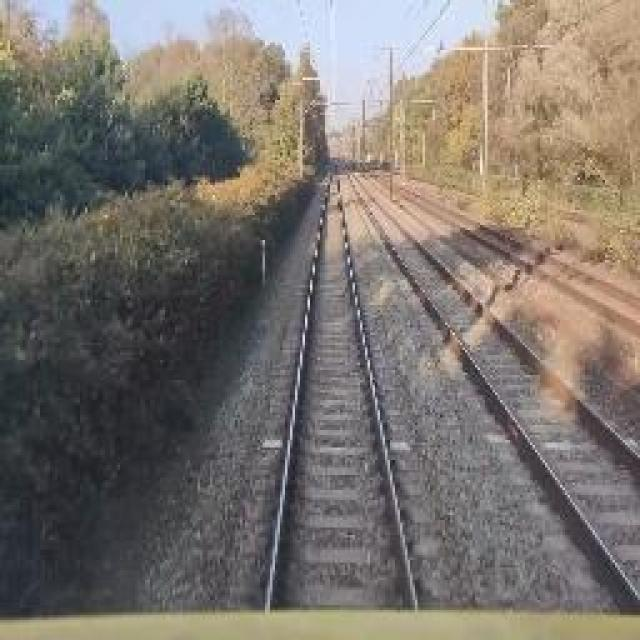rail: (333, 154, 640, 620), (234, 154, 439, 612)
